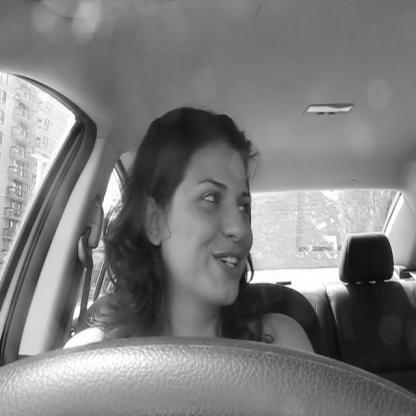no_seatbelt: (75, 103, 261, 416)
